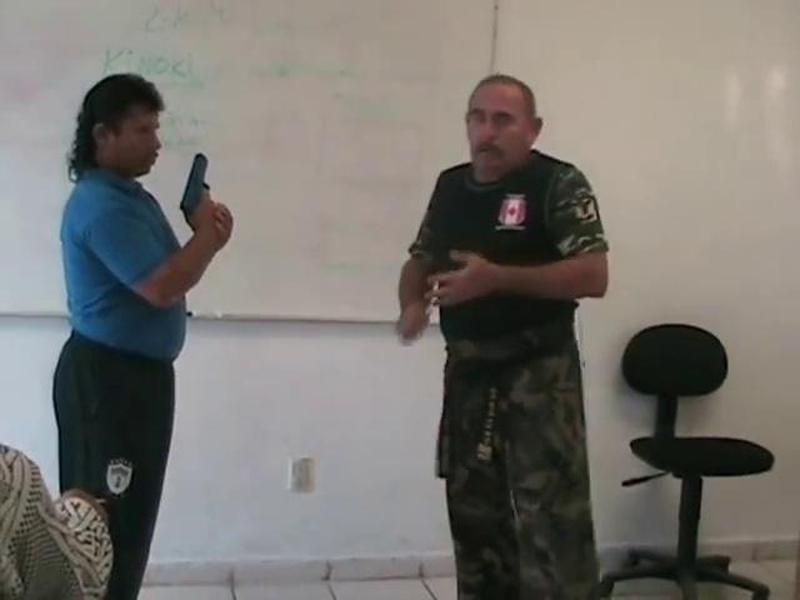Pistola: (175, 144, 216, 220)
